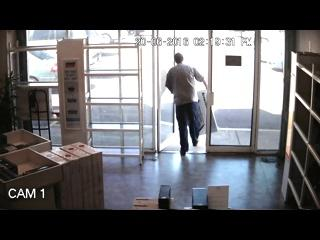shoplifting: (165, 52, 208, 156)
